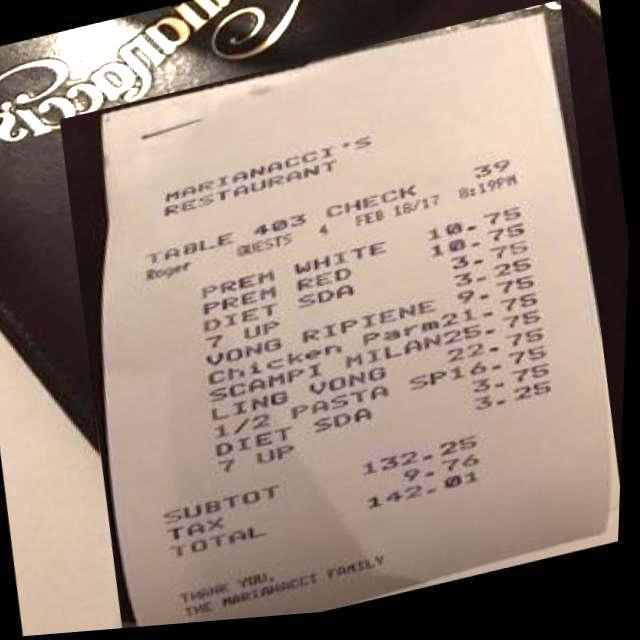Paper: (46, 4, 638, 636)
